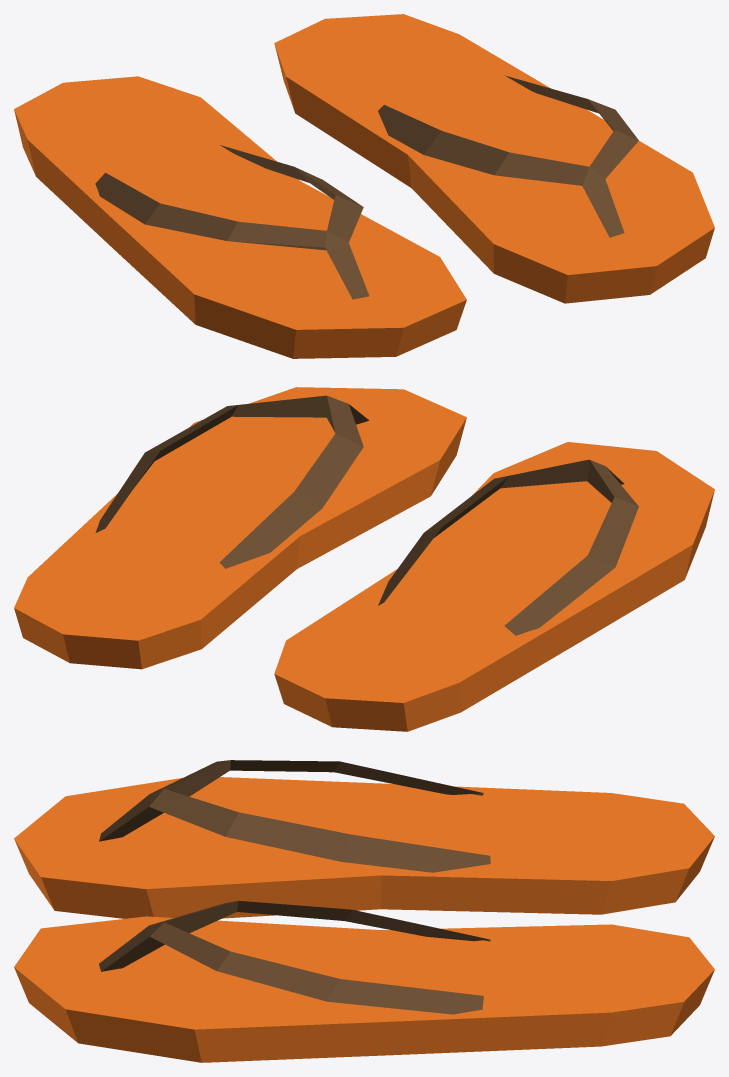
The model's file is flip-flops.glb.
3 renders of one model, top to bottom at view 1: azimuth 30°, elevation 25°; view 2: azimuth 150°, elevation 25°; view 3: azimuth 270°, elevation 25°, orthographic. The views are drawn at different scales.
Visible parts, largest first — view 1: flip-flops; view 2: flip-flops; view 3: flip-flops.
Boxes of the visible parts, x1,y1,x2,y2 form: flip-flops: [14, 14, 714, 358]; flip-flops: [14, 387, 714, 731]; flip-flops: [14, 760, 714, 1062].
Bounding box in the file's own units: 0.2839 × 0.0433 × 0.3316.
Materials: 1 (1 with a texture image).
